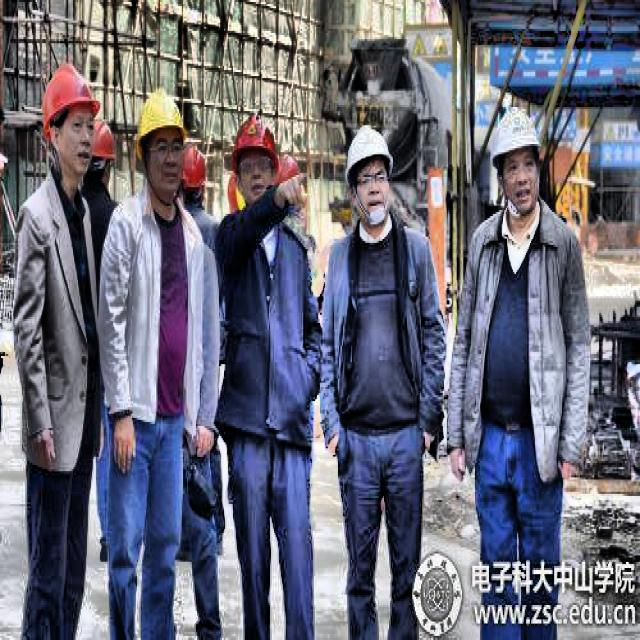helmet: (38, 64, 100, 183), (488, 105, 542, 220), (132, 90, 187, 198), (229, 111, 282, 212), (346, 118, 394, 226), (92, 109, 118, 208), (175, 144, 209, 218)
